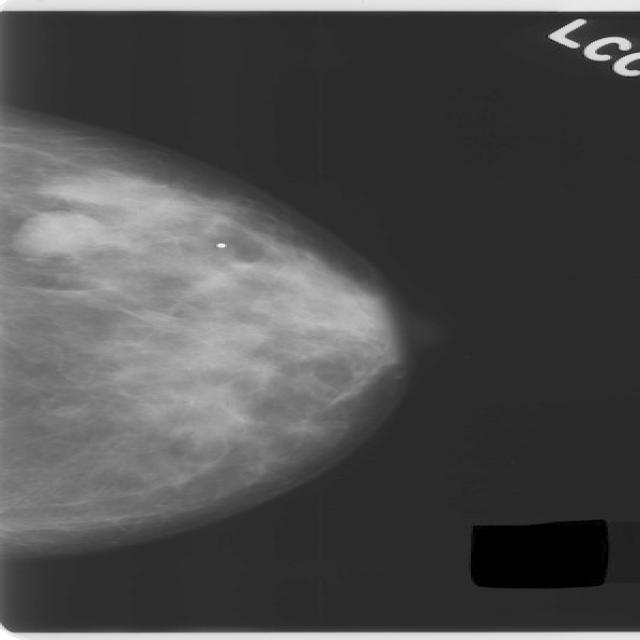tumour: (8, 209, 105, 257)
